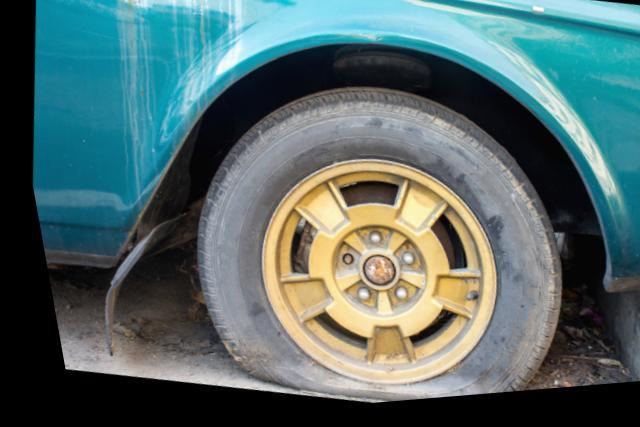tire flat: (191, 85, 548, 406)
